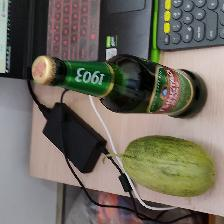gua: (117, 142, 209, 195)
